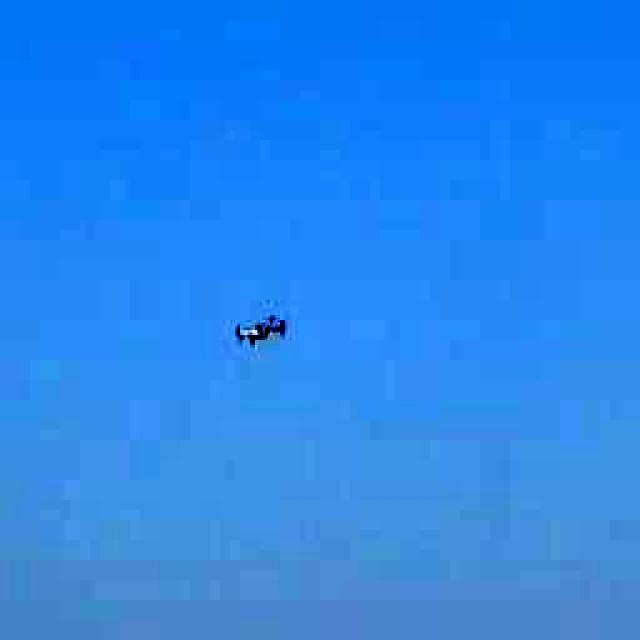bird: (214, 289, 296, 356)
